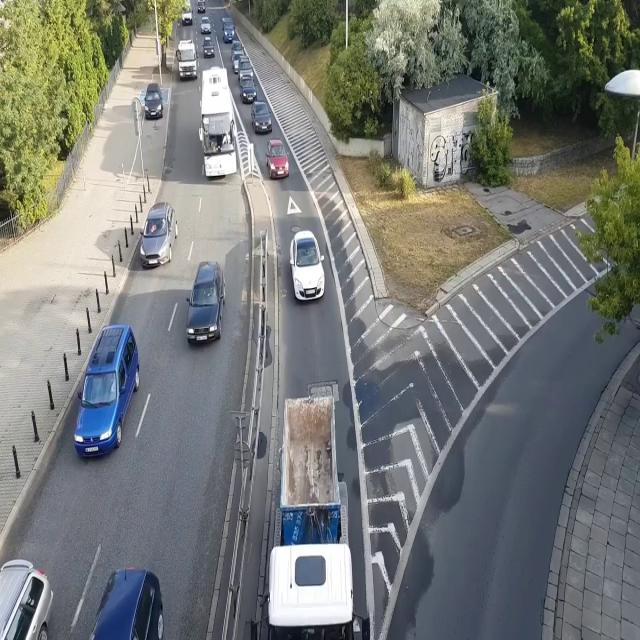bus: (198, 68, 238, 178)
car: (84, 566, 165, 640), (0, 557, 54, 640), (188, 258, 225, 350), (138, 203, 180, 270), (289, 230, 326, 304), (265, 138, 290, 179), (144, 81, 164, 120), (251, 101, 274, 133), (238, 74, 256, 105), (230, 42, 245, 73), (238, 58, 254, 82), (202, 35, 216, 58), (200, 17, 211, 32), (197, 0, 206, 15)
truck: (261, 393, 356, 640), (175, 38, 198, 82)
van: (74, 326, 140, 458), (222, 18, 236, 43), (181, 0, 193, 24)
